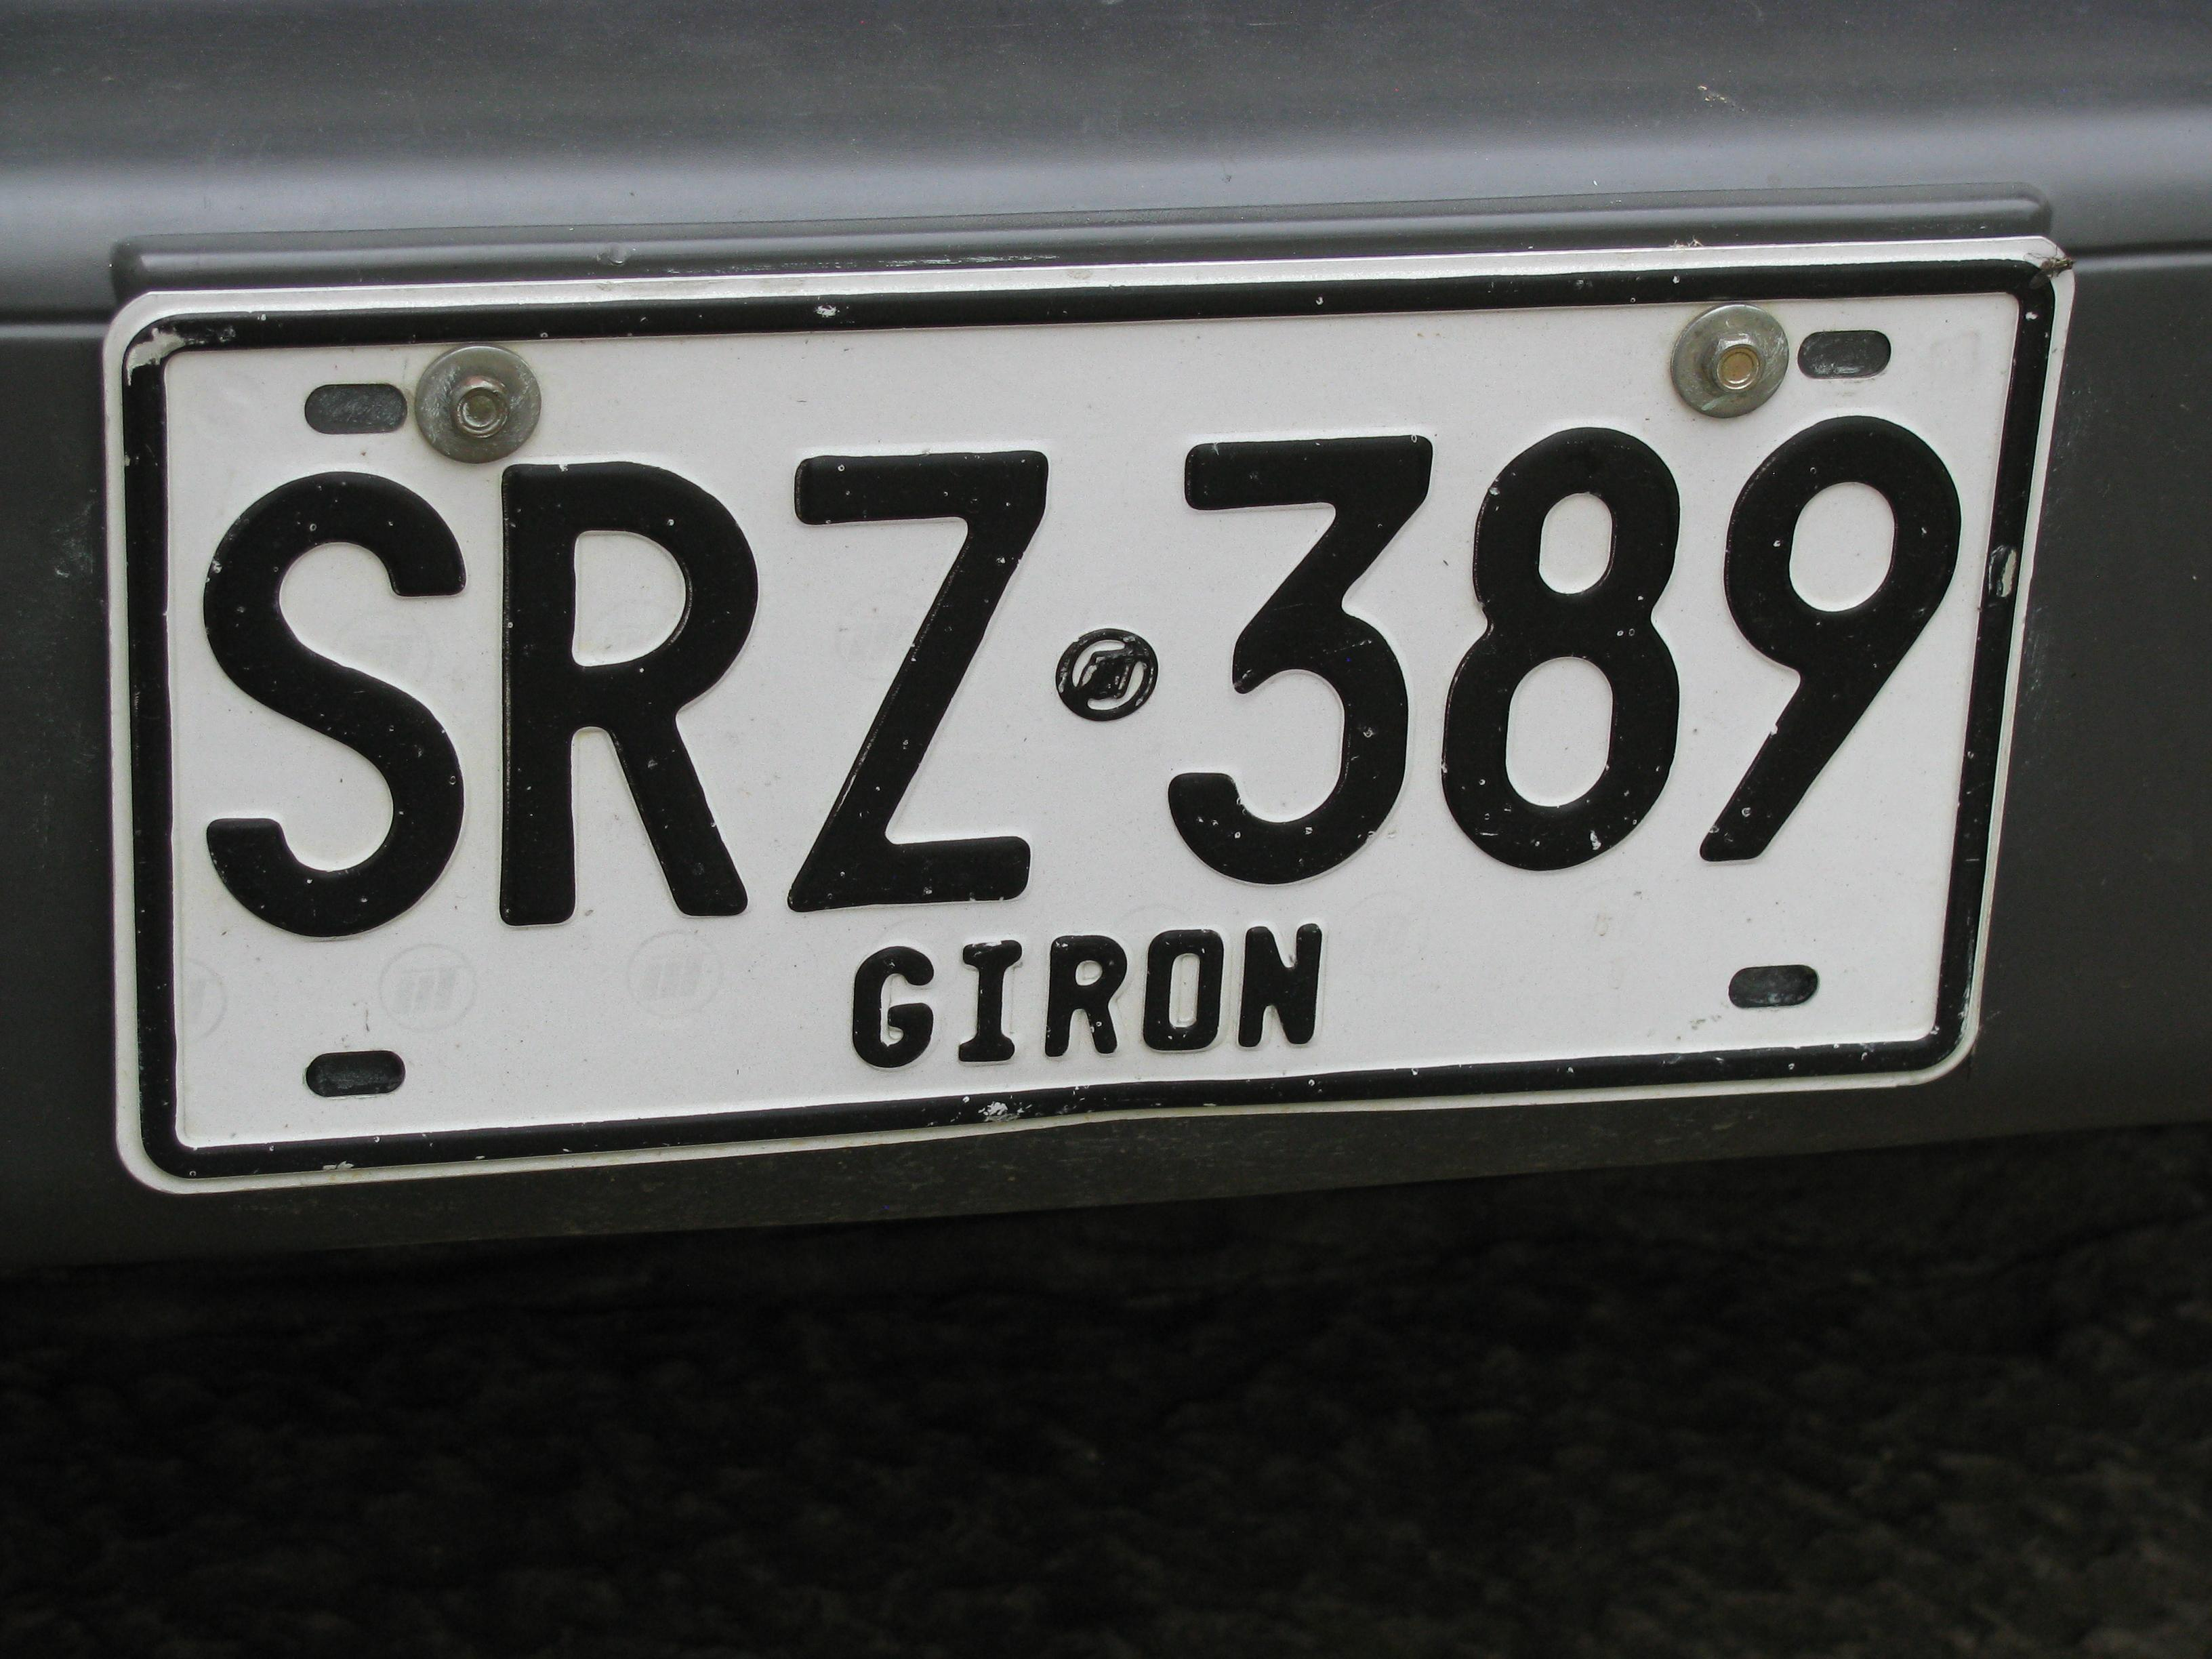placas: (96, 228, 2081, 1201)
